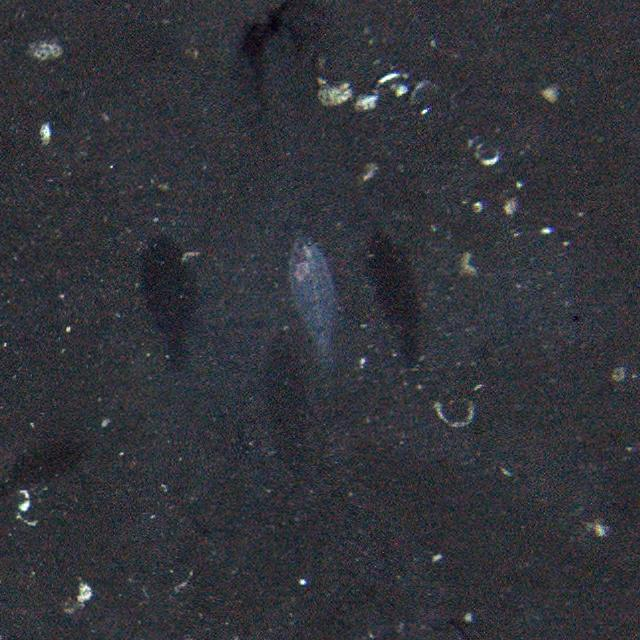flatfish: (286, 227, 345, 369)
